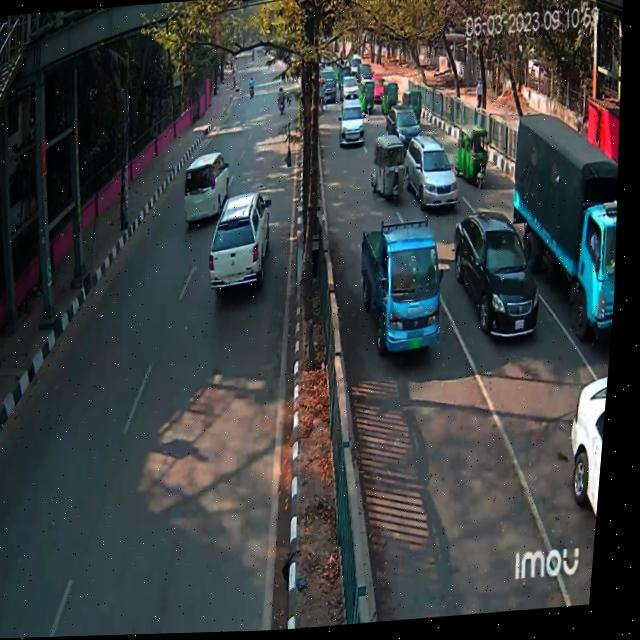cng: (453, 127, 497, 197), (382, 81, 403, 116), (360, 80, 379, 117), (404, 91, 427, 121)
